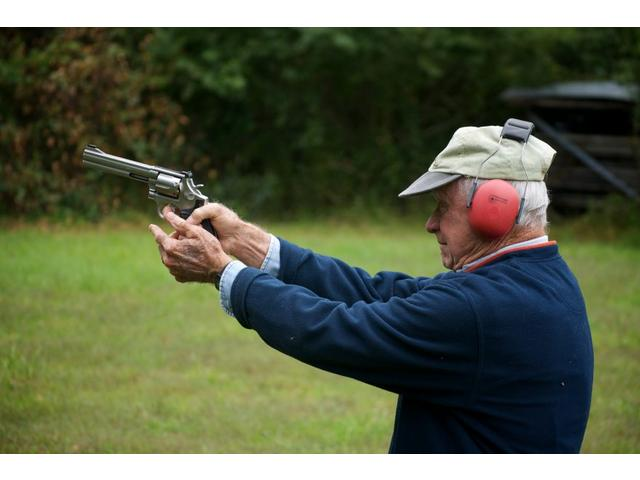pistol: (82, 145, 219, 279)
